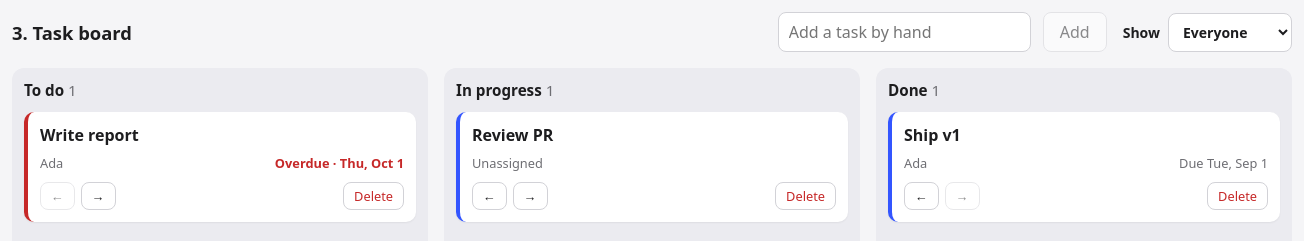
Test: TaskBoard › filters by owner
Step 1. Select "Unassigned" in the dropdown labelled "Show" → (1230, 32), box x1=1168 y1=12 x2=1292 y2=52
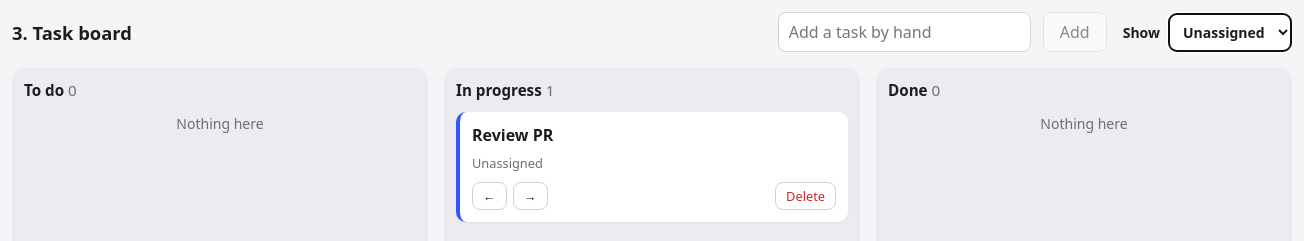
Expected: the text "Review PR" is shown, x1=472 y1=124 x2=553 y2=146
Expected: the text "Write report" is gone
